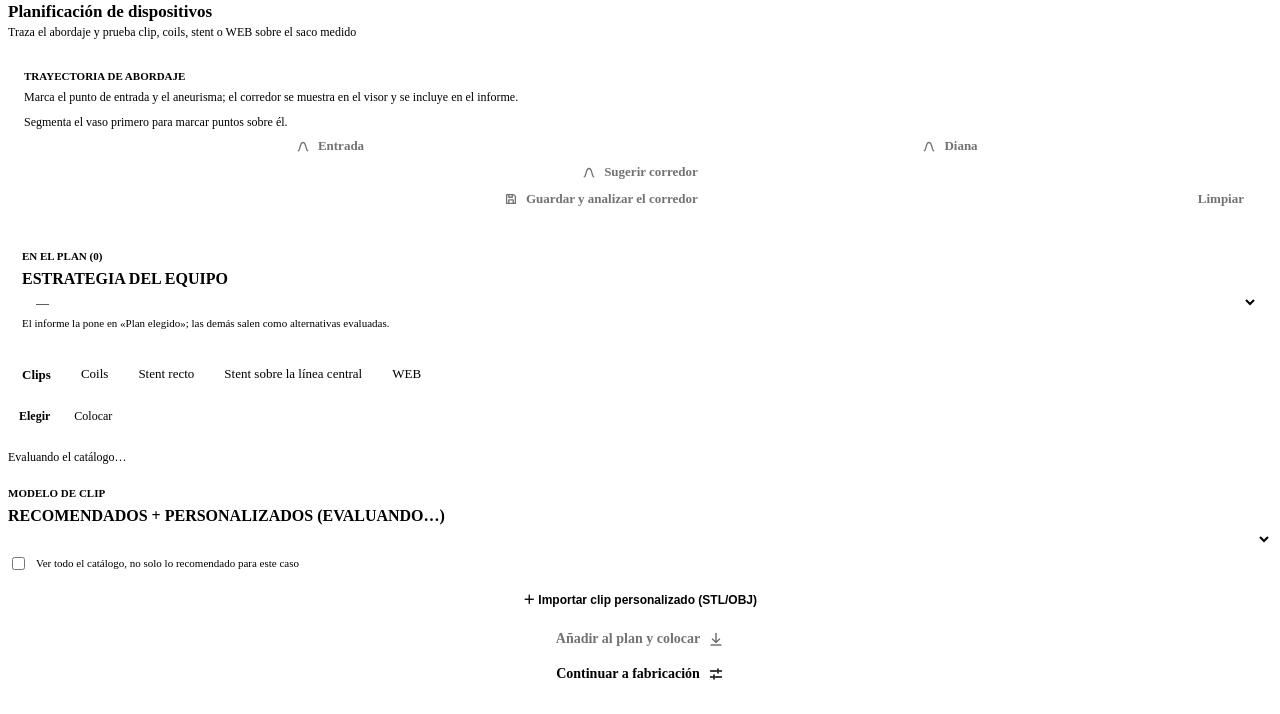
stent recto › infradimensionado no muestra «OK» (F1-207)
The image size is (1280, 714).
Click the button "Stent recto" at (166, 374), box left=124, top=358, right=208, bottom=392
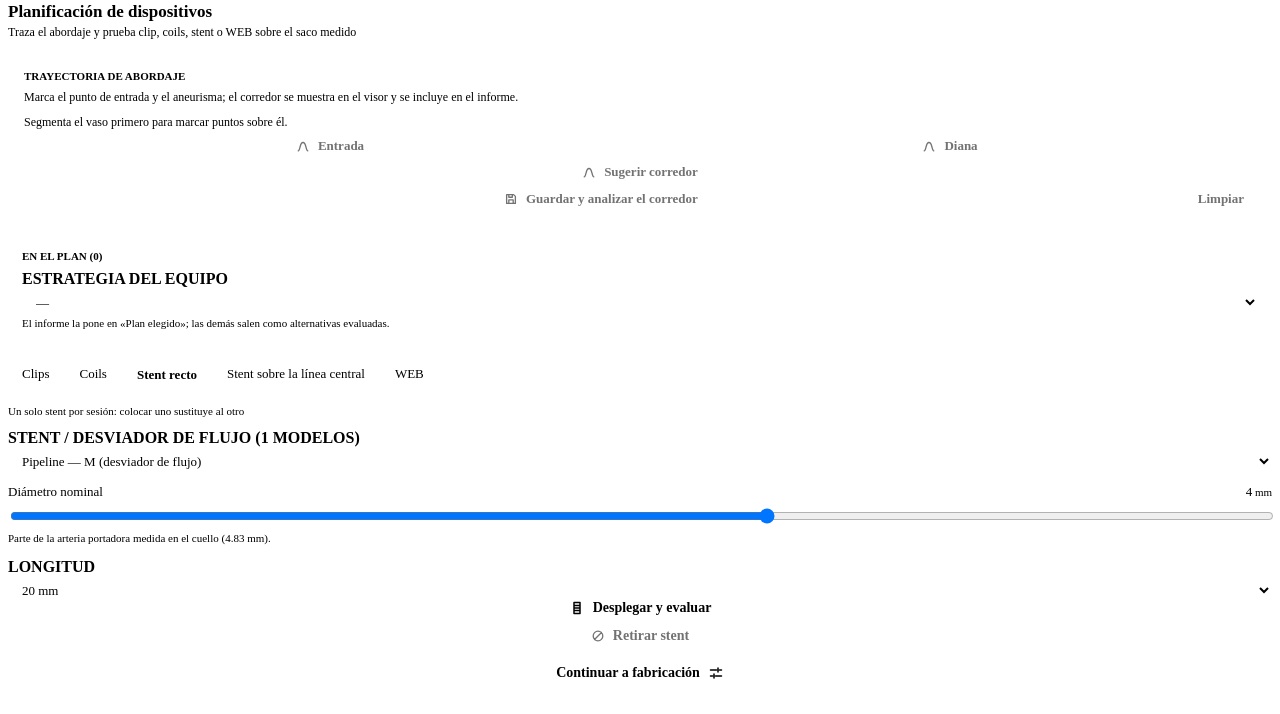
Result: the slider labelled "Diámetro nominal" is shown at left=10, top=508, right=1274, bottom=524
Click the button "Desplegar y evaluar" at (640, 608), box left=8, top=599, right=1272, bottom=617
(page scrolled)
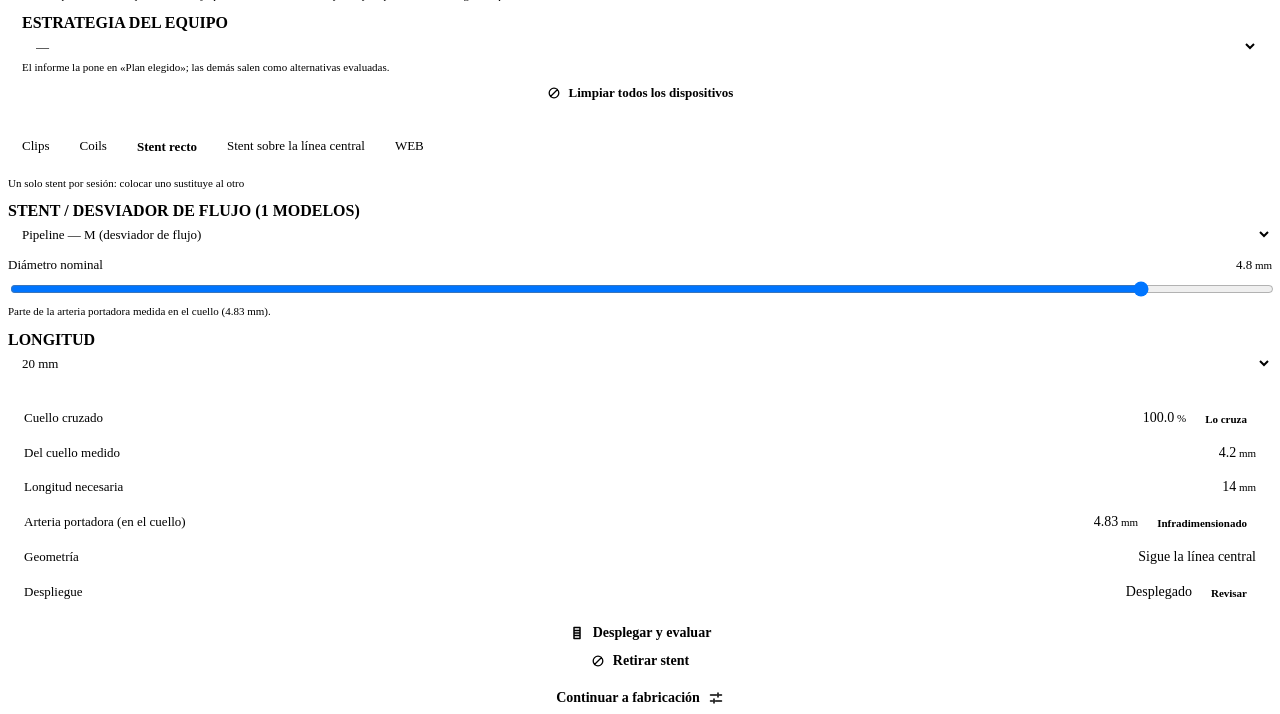
Result: the text "Infradimensionado" is shown at left=1157, top=516, right=1247, bottom=528
Result: the text "Revisar" is shown at left=1211, top=586, right=1247, bottom=598
